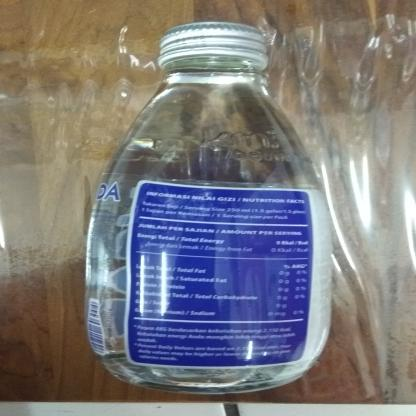bottle: (76, 19, 346, 397)
